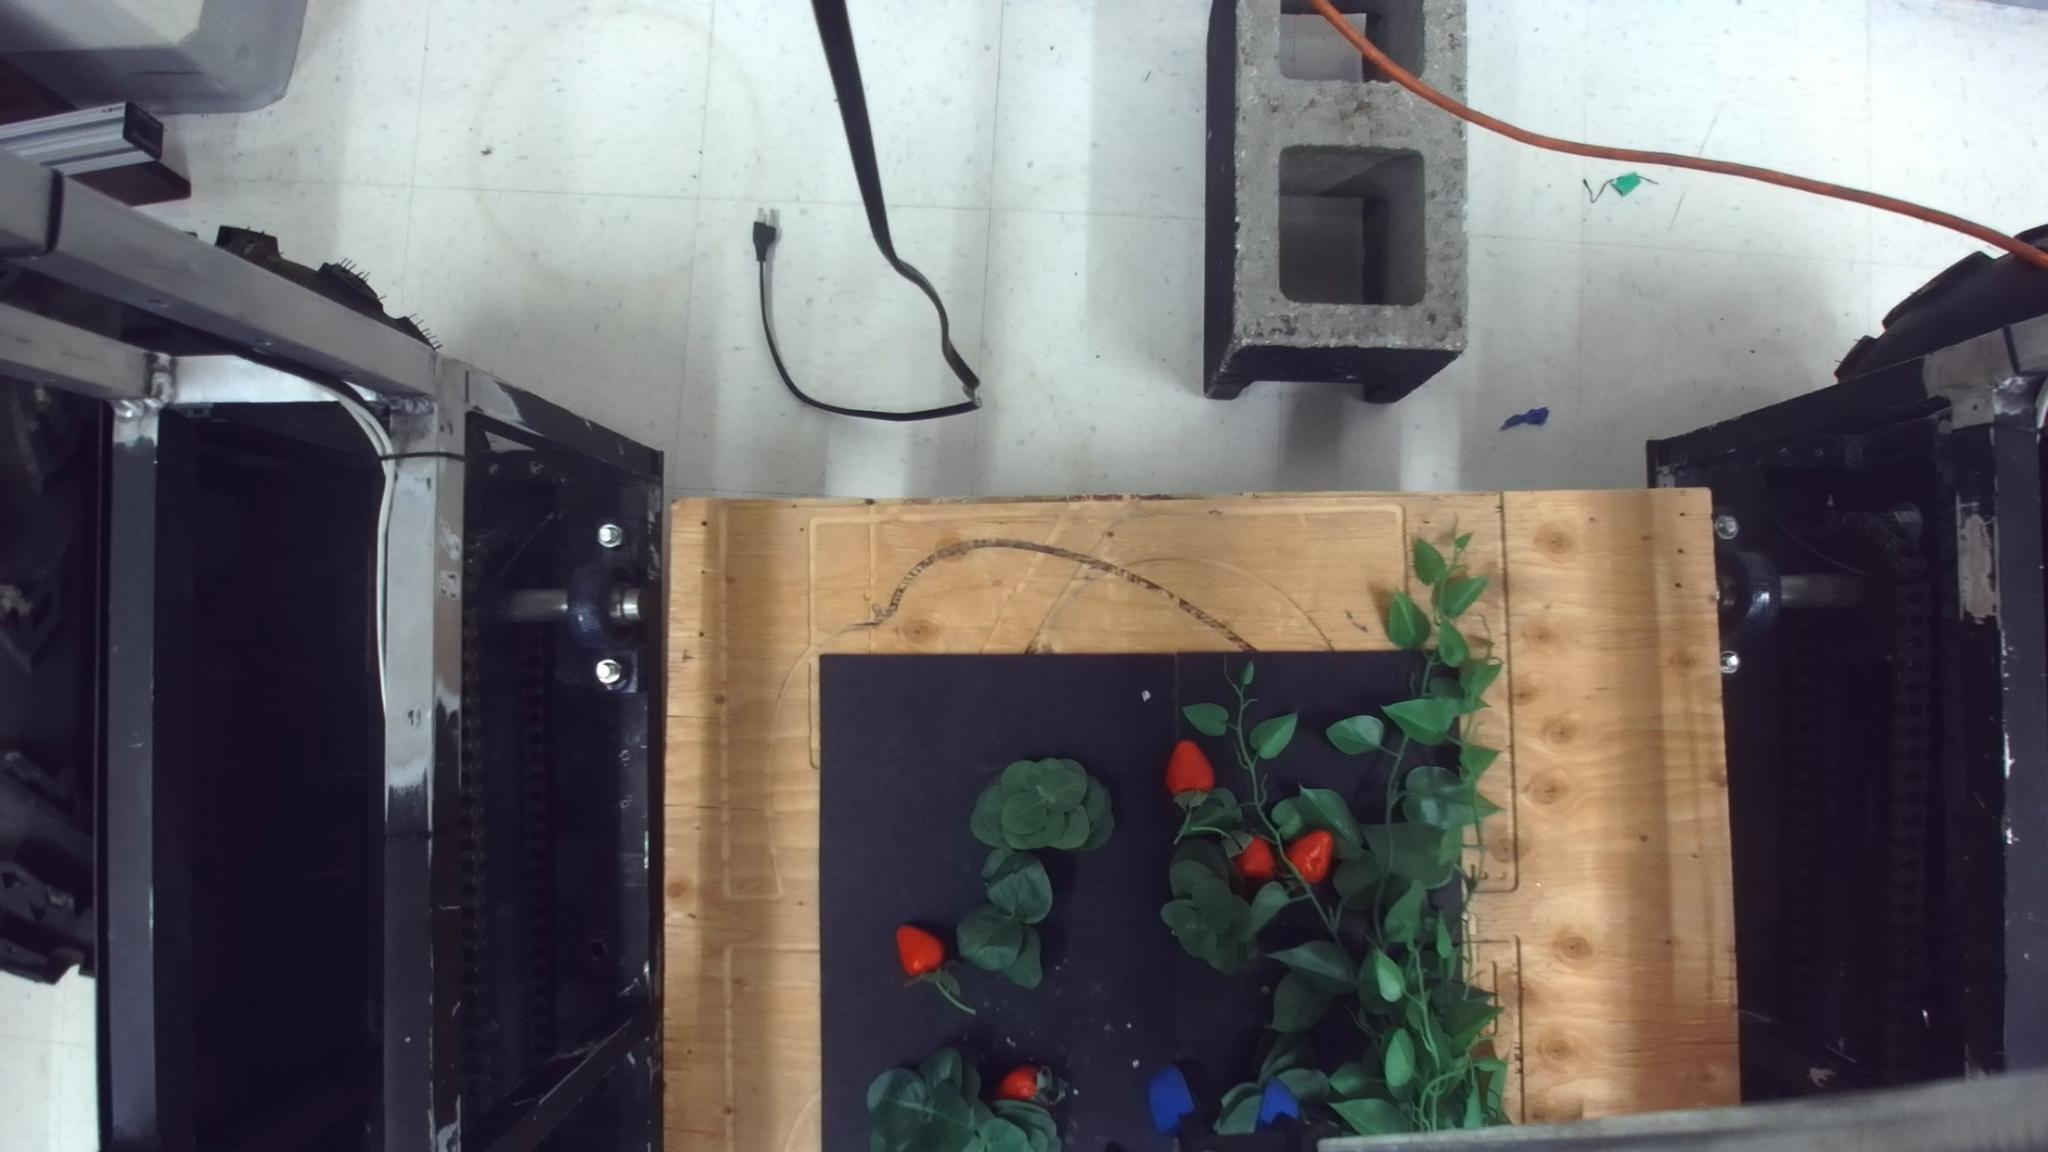mature: (1165, 738, 1215, 806), (895, 924, 945, 979), (1286, 828, 1335, 885), (992, 1062, 1051, 1107), (1232, 834, 1276, 882)
